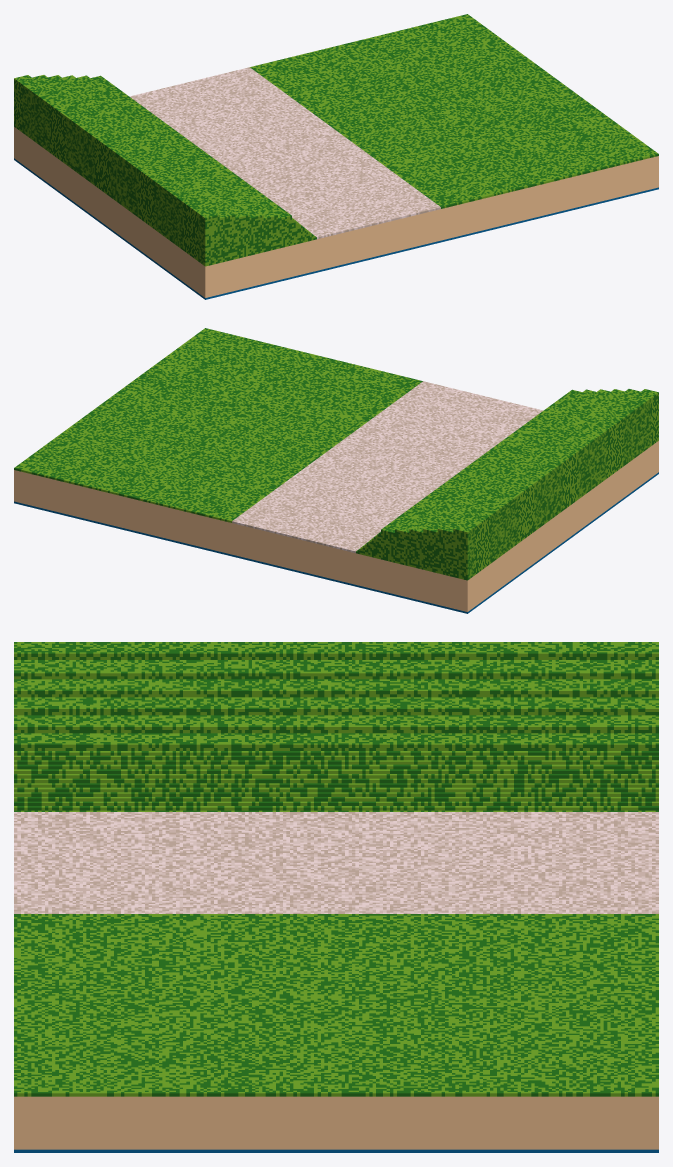
Rendered from castelloVillafranca-26.obj.
The picture shows the model from 3 angles, top to bottom: view 1: azimuth 30°, elevation 25°; view 2: azimuth 150°, elevation 25°; view 3: azimuth 270°, elevation 25°; orthographic projection. The views are drawn at different scales.
Size of the model in its own units: 25.6 by 4.4 by 18.7.
1 material, 1 textured.
